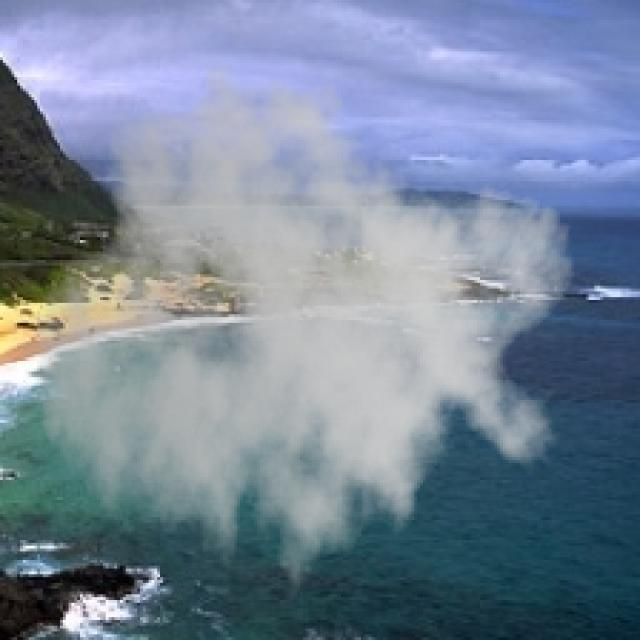smoke: (32, 49, 577, 617)
